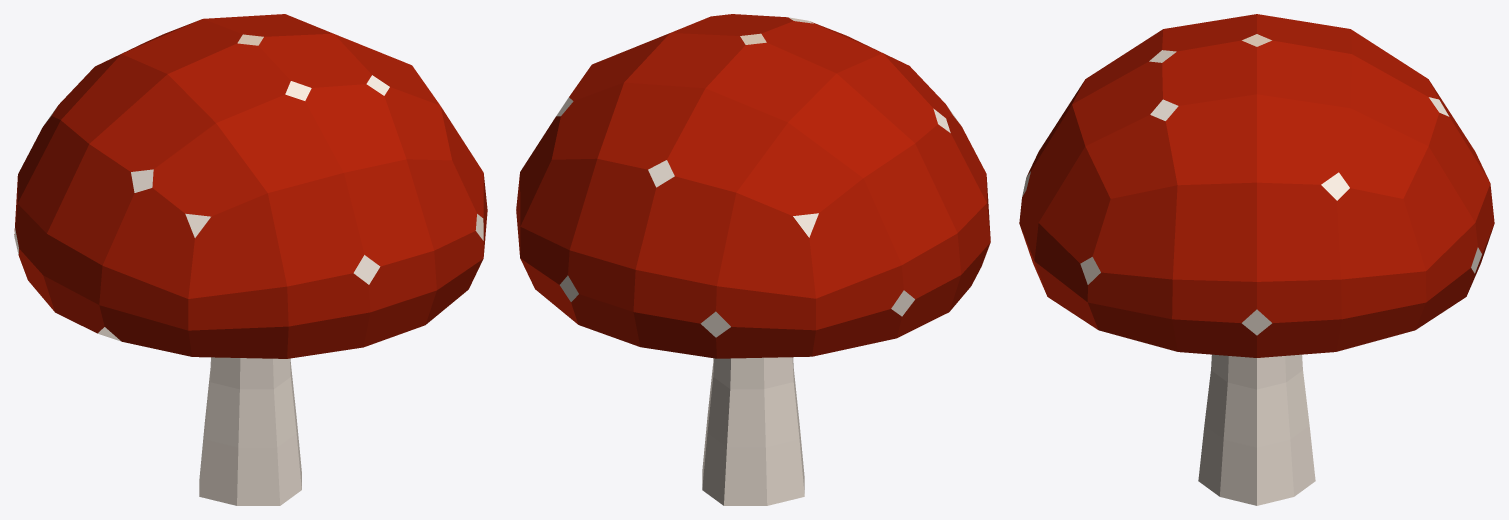
File: mushroom.glb
3 views of the same model, side by side, from view 1: azimuth 30°, elevation 25°; view 2: azimuth 150°, elevation 25°; view 3: azimuth 270°, elevation 25° (orthographic).
Parts seen in each view (by area): view 1: mushroom; view 2: mushroom; view 3: mushroom.
Boxes of the visible parts, bbox=[...] form: mushroom: bbox=[14, 14, 487, 505]; mushroom: bbox=[516, 14, 990, 505]; mushroom: bbox=[1019, 14, 1494, 505].
Bounding box in the file's own units: 1.42 × 1.46 × 1.42.
Materials: 1 (1 with a texture image).
